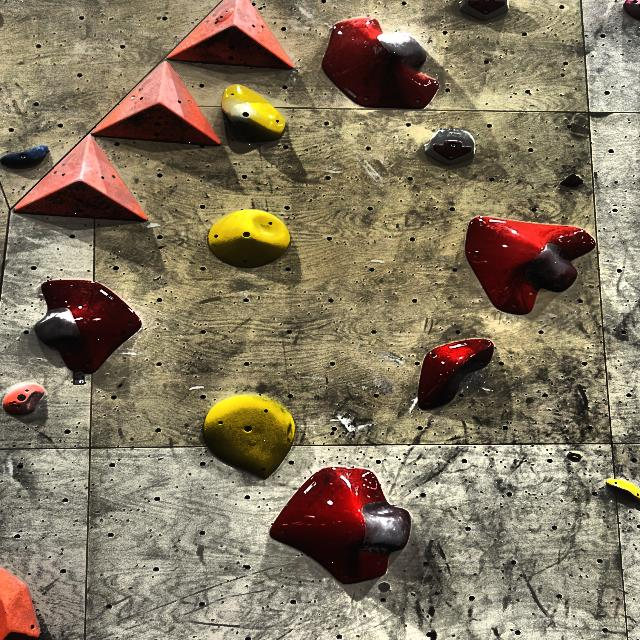Hold: (268, 469, 411, 583), (465, 217, 594, 314), (321, 19, 438, 111), (35, 279, 141, 373), (203, 395, 295, 478), (417, 341, 494, 409), (208, 209, 290, 268), (222, 84, 286, 143), (3, 383, 45, 416), (1, 145, 49, 167), (606, 477, 640, 504), (623, 0, 640, 21), (560, 173, 583, 187), (215, 8, 234, 21), (568, 451, 582, 461)
Volume: (15, 136, 146, 221), (93, 63, 220, 146), (169, 0, 294, 69), (0, 568, 40, 640)
start_tag: (74, 372, 85, 379), (380, 583, 389, 591), (637, 503, 640, 510)
